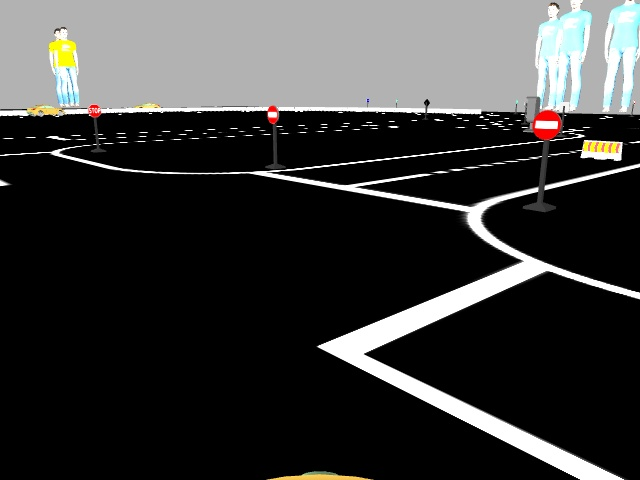ClosedRoadStand: (583, 141, 620, 160)
NoEntry: (531, 109, 562, 139), (264, 107, 278, 123)
Stop: (86, 104, 102, 119)
